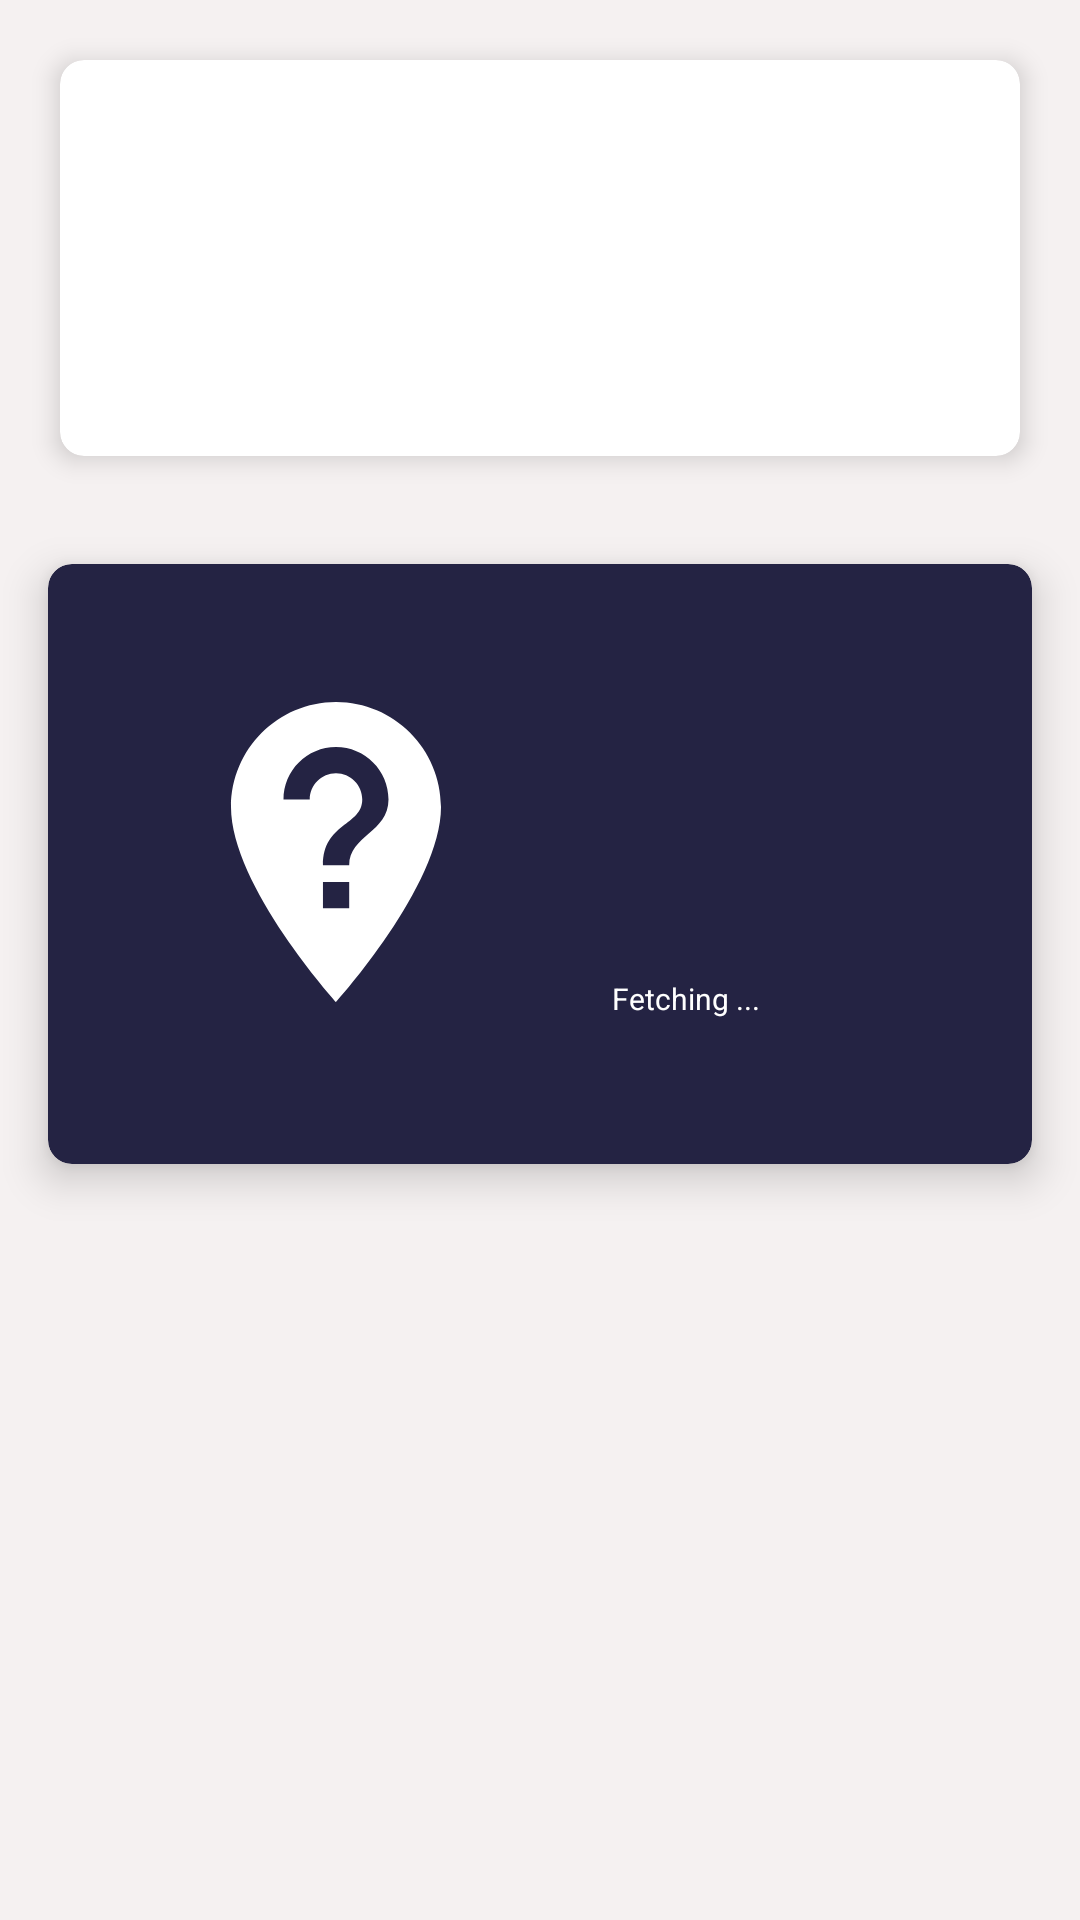

Icon click points for this 1080px×1920px phone screenshot, format (x,y):
location place holder: (336,852)
